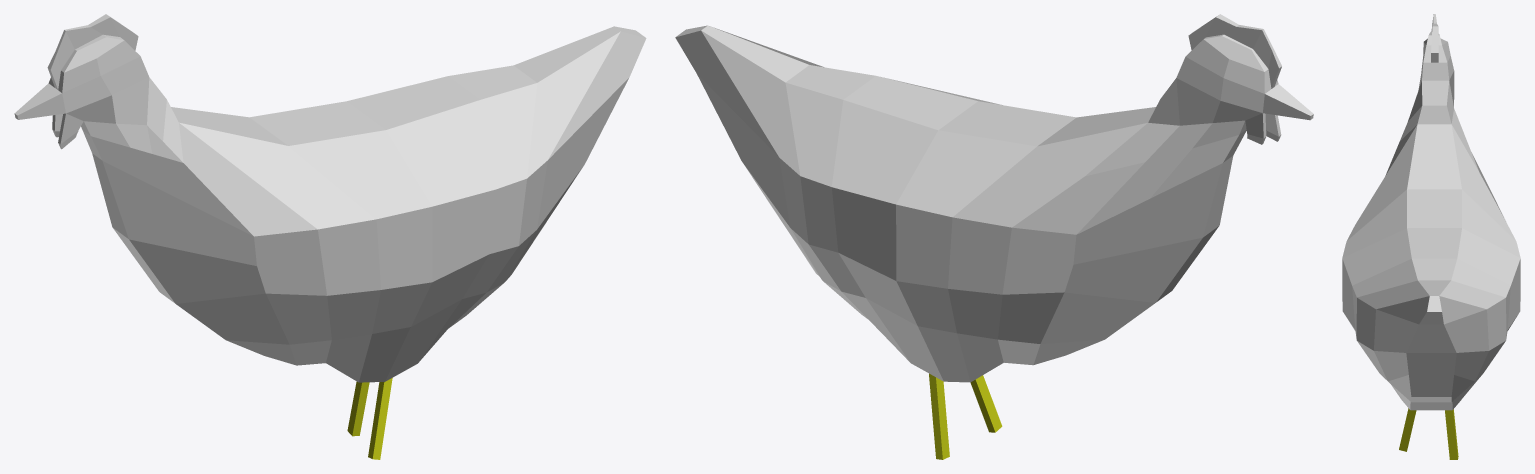
The model's file is pollo.fbx.
3 views of the same model, side by side, from view 1: azimuth 30°, elevation 25°; view 2: azimuth 150°, elevation 25°; view 3: azimuth 270°, elevation 25° (orthographic). The views are drawn at different scales.
Visible parts, largest first — view 1: Cube, Cube.003; view 2: Cube, Cube.003, Cube.002; view 3: Cube, Cube.001, Cube.003.
Boxes of the visible parts, x1,y1,x2,y2 form: Cube: (14,14,646,382); Cube.003: (368,378,392,459); Cube: (675,14,1313,382); Cube.003: (970,375,1002,432); Cube.002: (931,377,949,459); Cube: (1342,14,1520,410); Cube.001: (1445,409,1458,459); Cube.003: (1399,408,1416,451).
Bounding box in the file's own units: 160 × 120 × 56.6.
